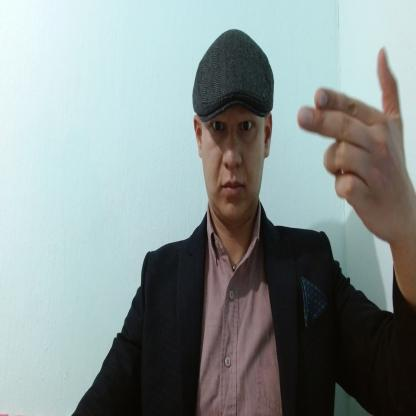H: (296, 46, 406, 238)
